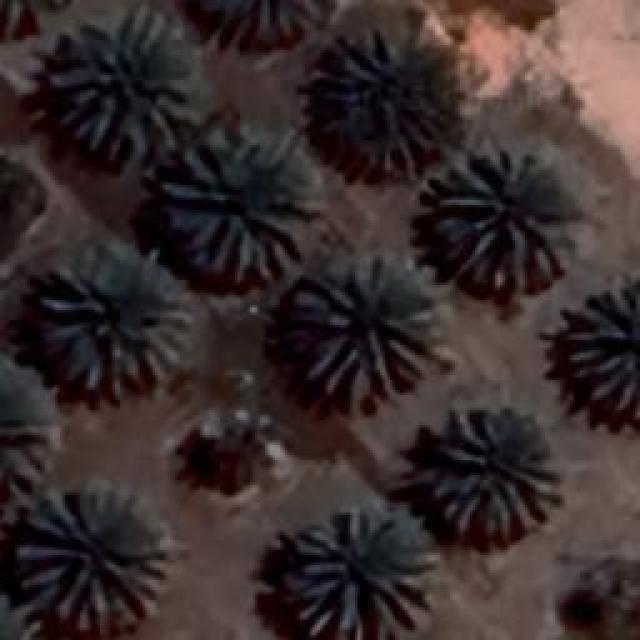PalmTree: (160, 130, 318, 285), (428, 142, 580, 296), (48, 9, 200, 162), (34, 248, 188, 398), (290, 260, 435, 410), (14, 488, 168, 622), (288, 504, 440, 638), (26, 17, 75, 430), (427, 410, 555, 540), (330, 30, 442, 178), (562, 280, 636, 415), (210, 0, 330, 45), (0, 146, 33, 248)
